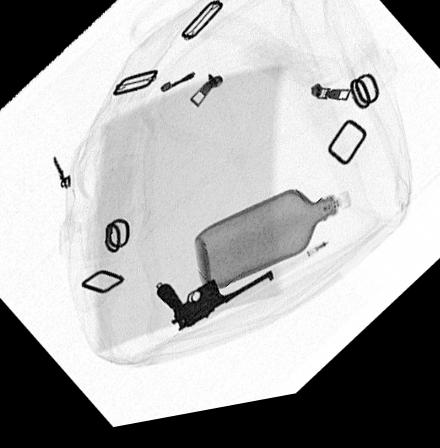Gun: (155, 278, 275, 341)
